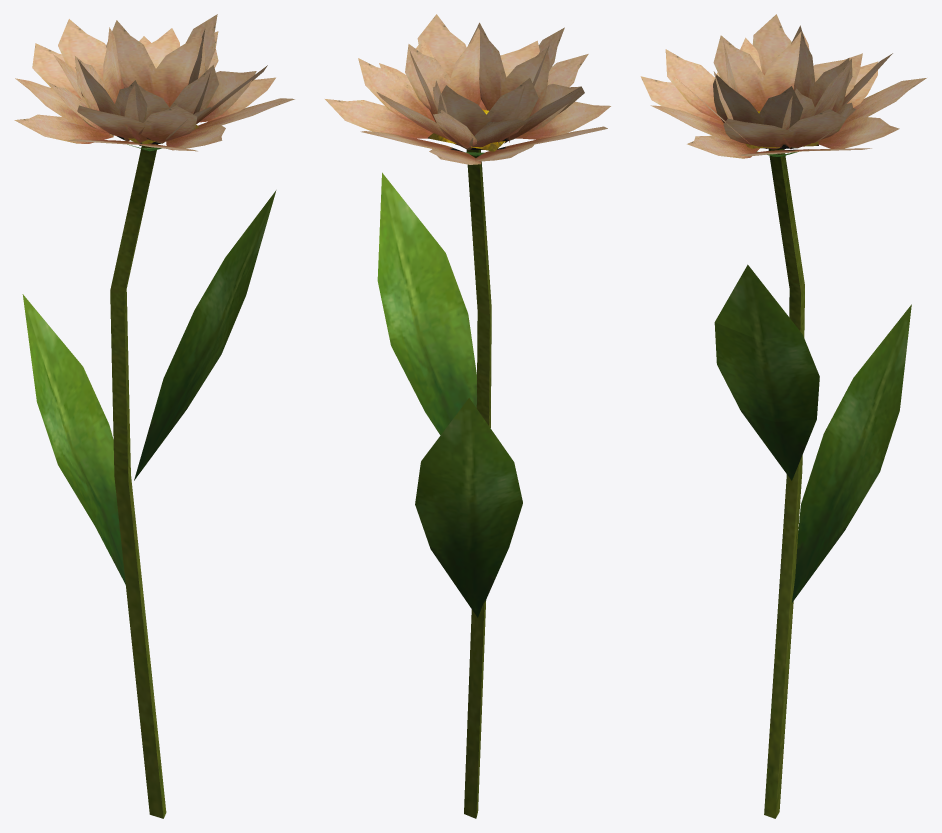
Rendered from lotusflower_07.glb.
The picture shows the model from 3 angles, left to right: view 1: azimuth 30°, elevation 25°; view 2: azimuth 150°, elevation 25°; view 3: azimuth 270°, elevation 25°; orthographic projection.
Parts seen in each view (by area): view 1: lotusflower_07; view 2: lotusflower_07; view 3: lotusflower_07.
Part boxes in pixels (<box>): lotusflower_07: <box>14,14,294,818</box>; lotusflower_07: <box>325,14,610,818</box>; lotusflower_07: <box>640,14,926,818</box>.
Bounding box in the file's own units: 0.4509 × 1.34 × 0.4621.
1 material, 1 textured.
